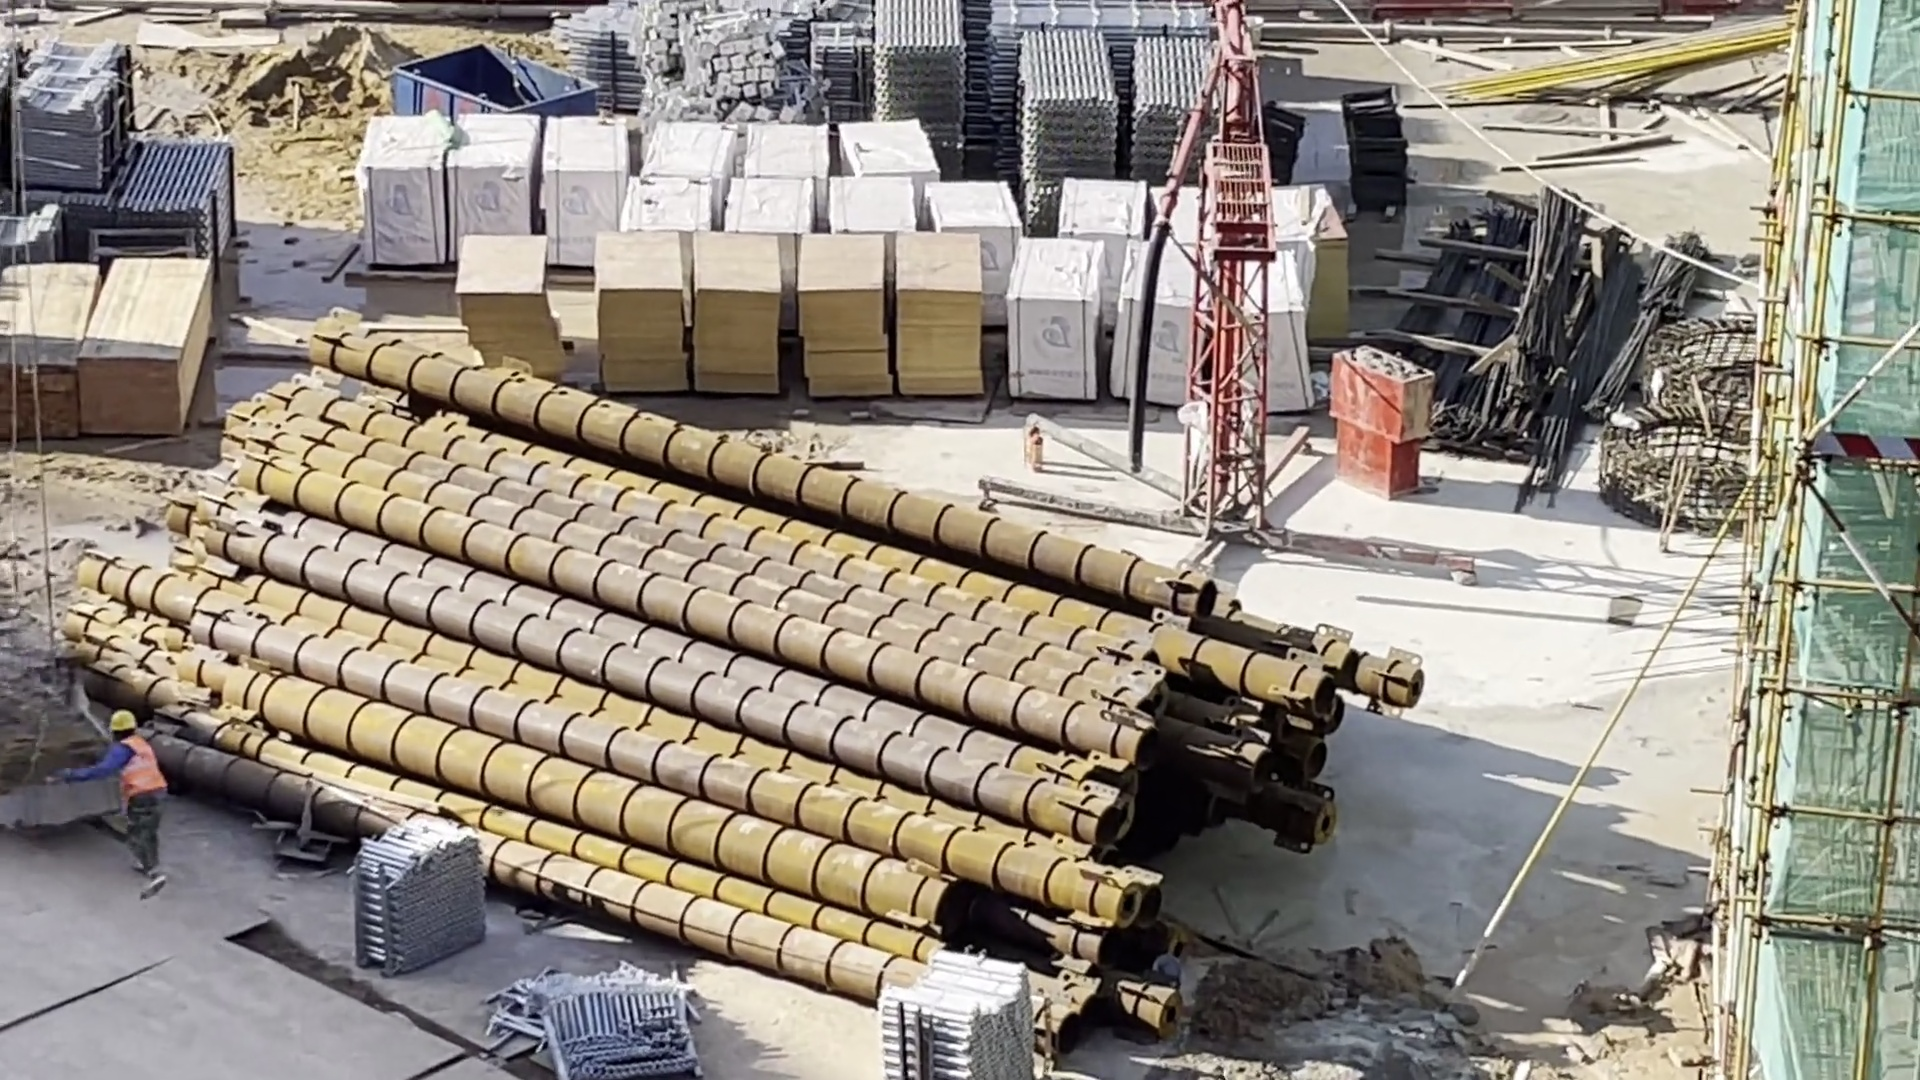board: (886, 222, 992, 404), (791, 225, 895, 403), (686, 221, 786, 406), (586, 224, 690, 397), (452, 227, 572, 376)
helmet: (100, 698, 148, 738)
hopper: (380, 35, 603, 136)
person: (38, 687, 188, 909)
scaffold: (851, 945, 1039, 1080), (344, 810, 492, 980), (1015, 17, 1125, 213), (114, 130, 254, 268), (1125, 19, 1225, 199), (873, 2, 969, 161)
vest: (103, 730, 171, 801)
